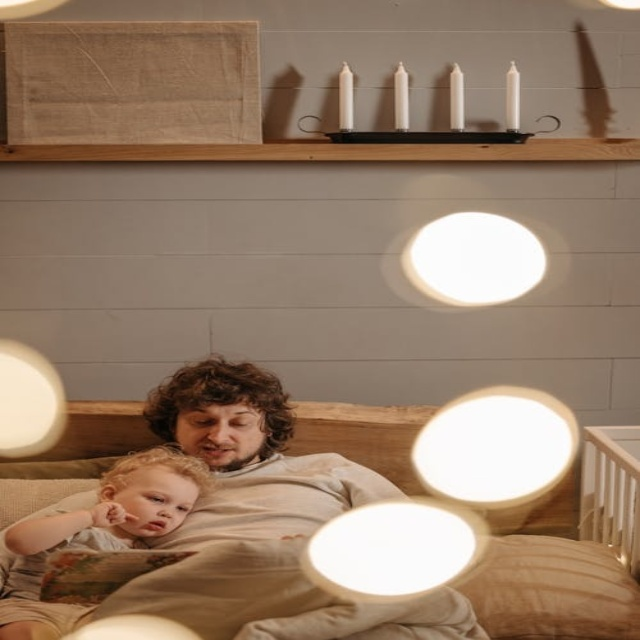Sin_gafas: (137, 484, 196, 514), (184, 409, 256, 432)
Sin_guantes: (86, 498, 141, 527)
Sin_mascara: (197, 444, 238, 464), (143, 517, 169, 537)
